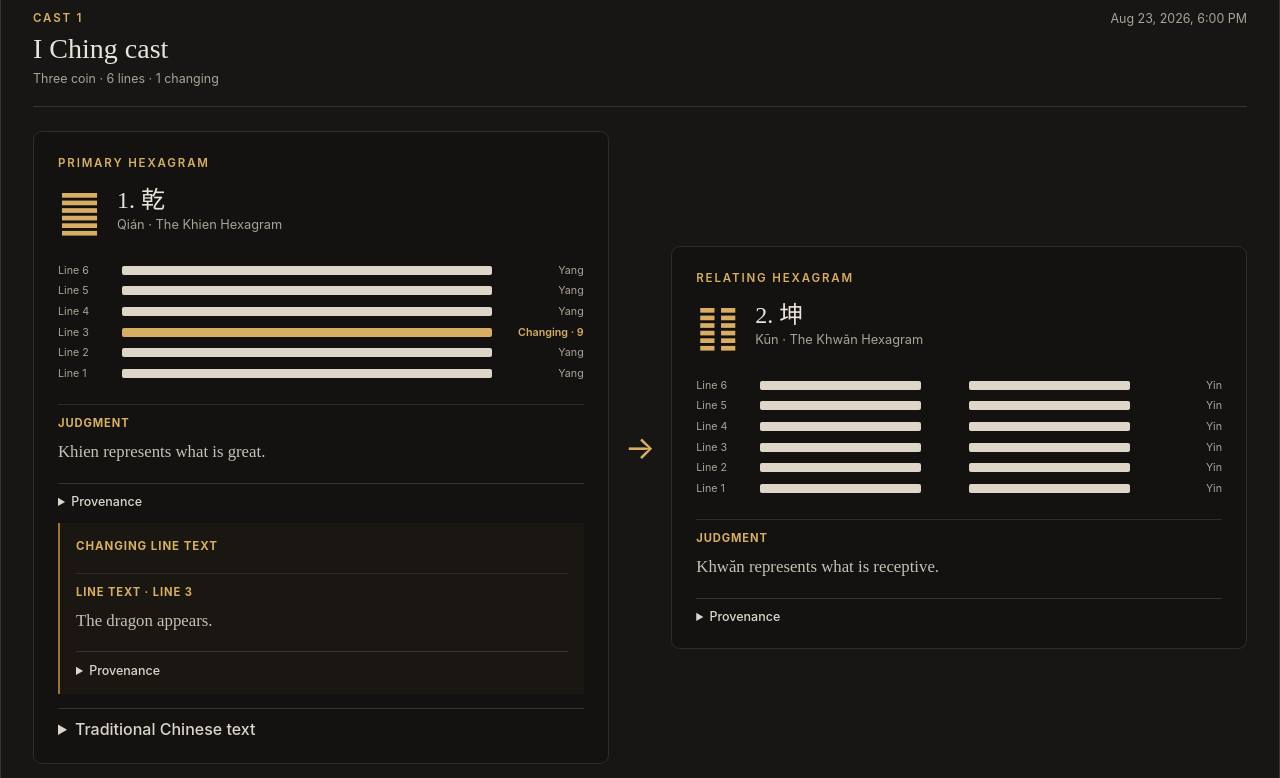
Test: renders primary, relating, changing lines, original Chinese, and source details
Expected: the text "Primary hexagram" is shown, [58,156,210,170]
Expected: the text "Relating hexagram" is shown, [696,271,854,285]
Click the heading "Traditional Chinese text": click(165, 729) [75,719,255,739]
(page scrolled)
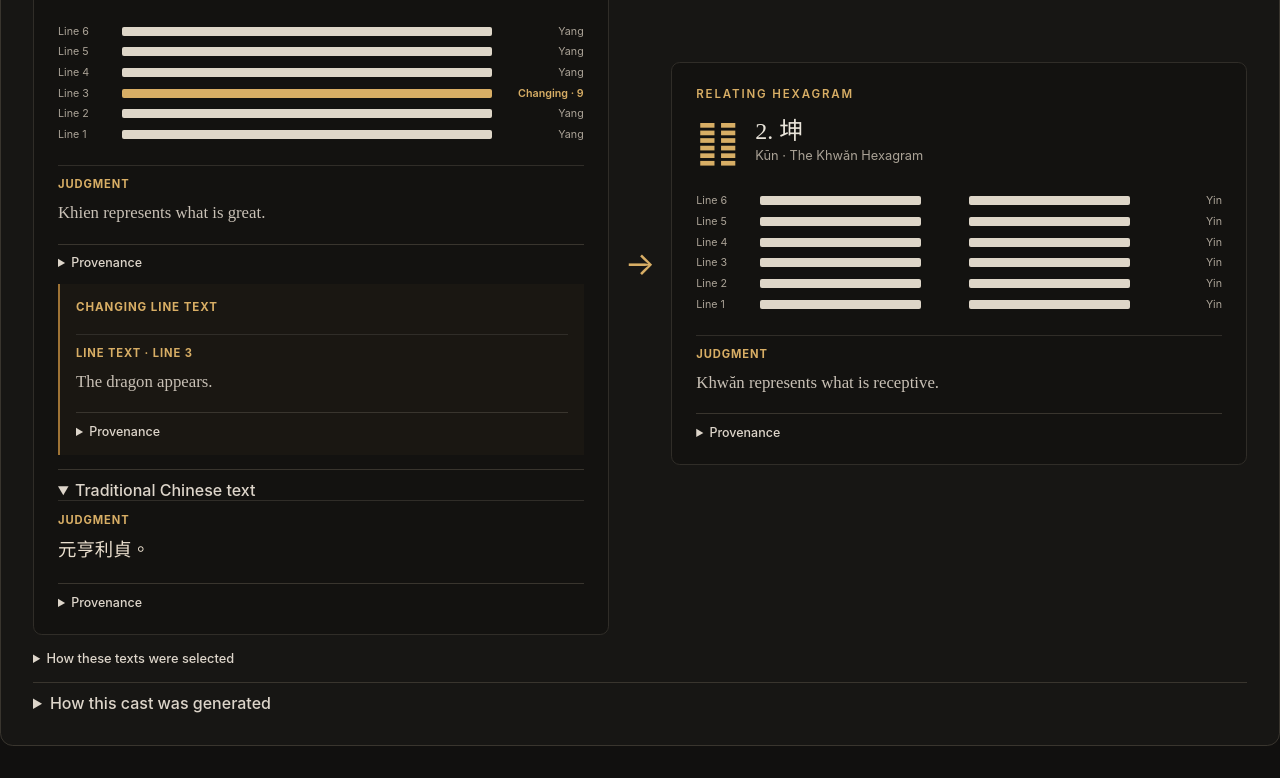
Expected: the text "Changing · 9" is shown, [518,86,584,100]
Now the text "元亨利貞。" is shown, box [58,540,150,560]
